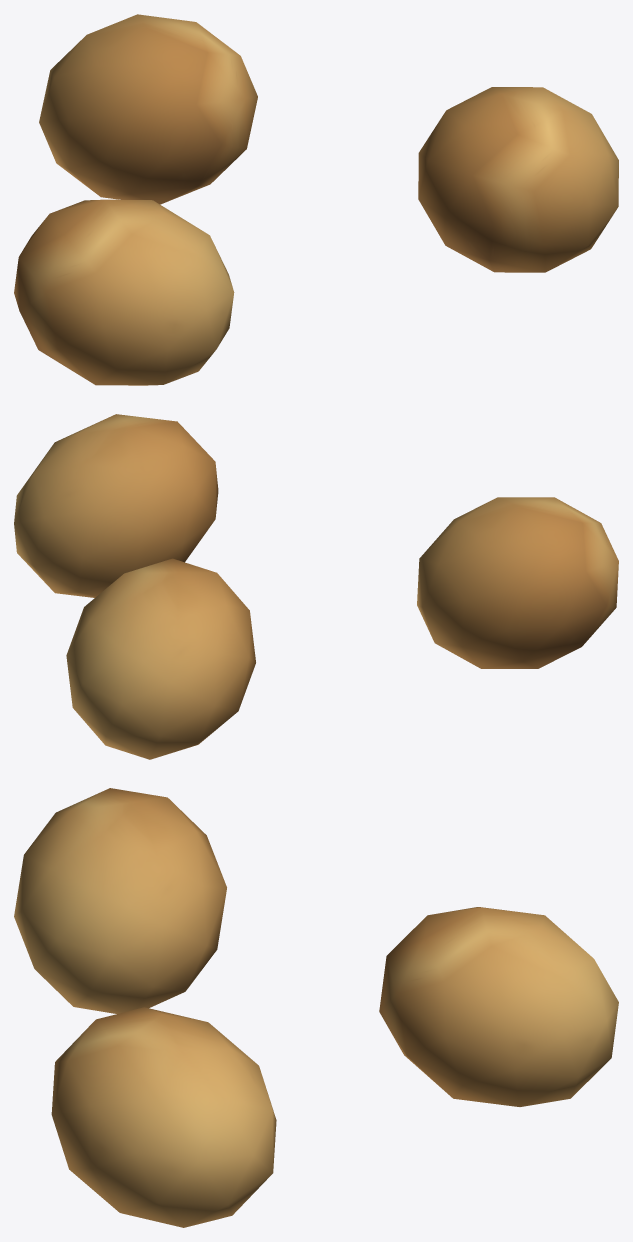
File: NP_Radish_Seed.fbx
3 renders of one model, top to bottom at view 1: azimuth 30°, elevation 25°; view 2: azimuth 150°, elevation 25°; view 3: azimuth 270°, elevation 25°, orthographic. The views are drawn at different scales.
Visible parts, largest first — view 1: NP_Radish_Seed; view 2: NP_Radish_Seed; view 3: NP_Radish_Seed.
Part boxes in pixels (x1,y1,x2,y2): NP_Radish_Seed: (14,14,618,385); NP_Radish_Seed: (14,414,618,759); NP_Radish_Seed: (14,788,618,1227).
Size of the model in its own units: 16.8 by 4.88 by 13.91.
